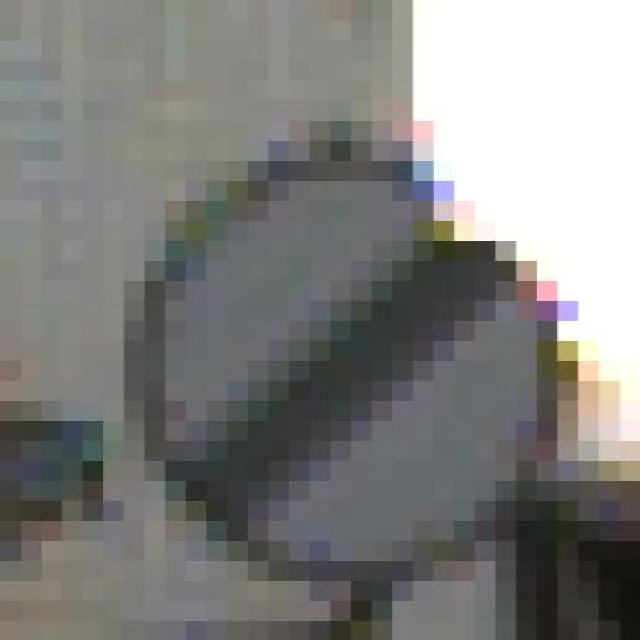End of all speed and passing limits: (82, 125, 600, 584)
